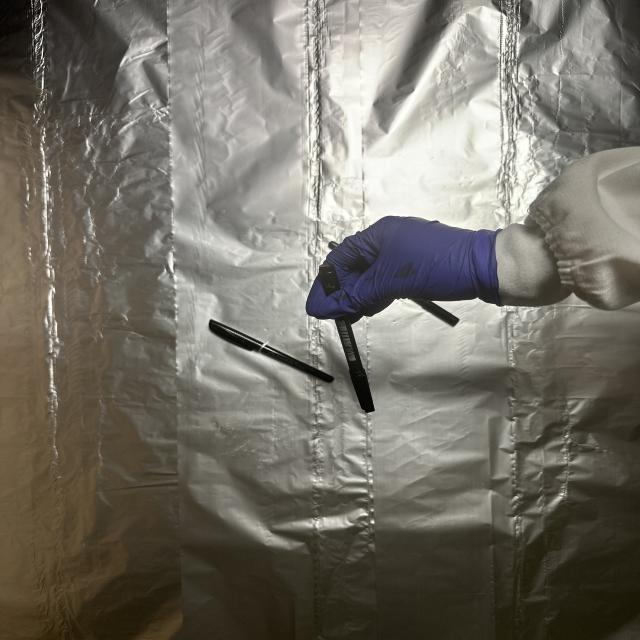gloves_contaminated: (306, 216, 502, 320)
